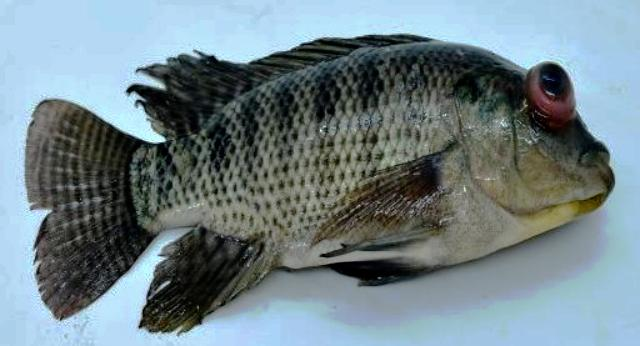Streptococcus: (25, 35, 614, 331)
